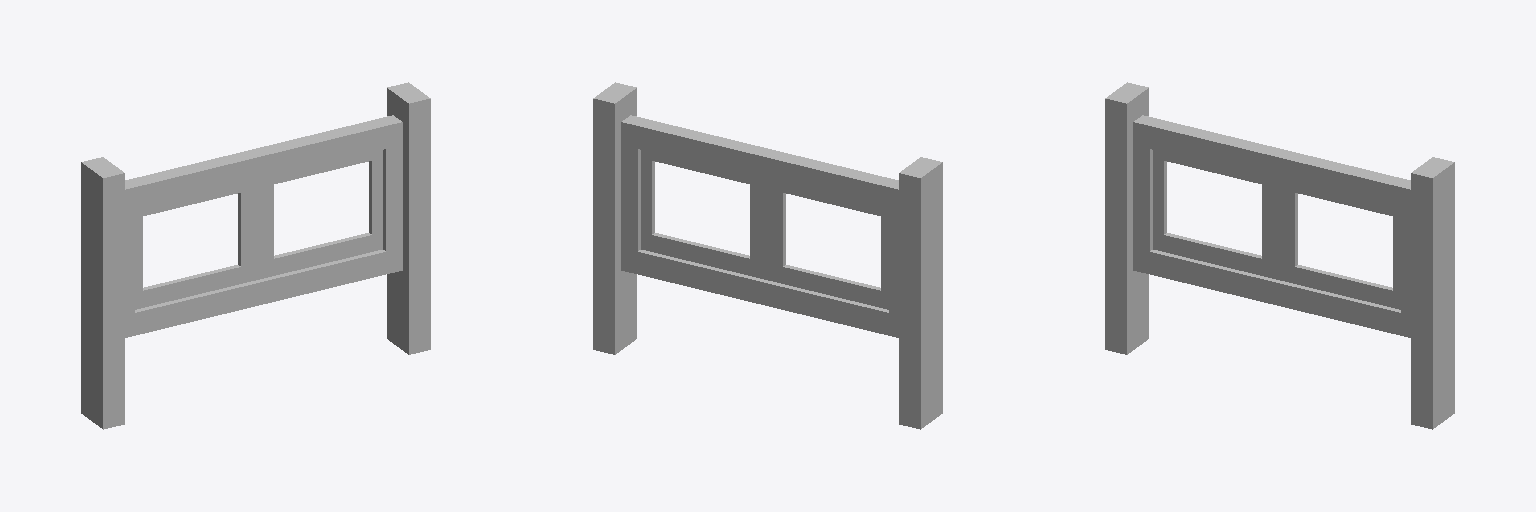
The model's file is fence.obj.
3 renders of one model, left to right at view 1: azimuth 30°, elevation 25°; view 2: azimuth 150°, elevation 25°; view 3: azimuth 330°, elevation 25°, orthographic.
Visible parts, largest first — view 1: fence; view 2: fence; view 3: fence.
Part boxes in pixels (bbox=[...]): fence: bbox=[81, 82, 430, 429]; fence: bbox=[593, 82, 942, 429]; fence: bbox=[1105, 82, 1454, 429].
Bounding box in the file's own units: 60 × 44 × 7.